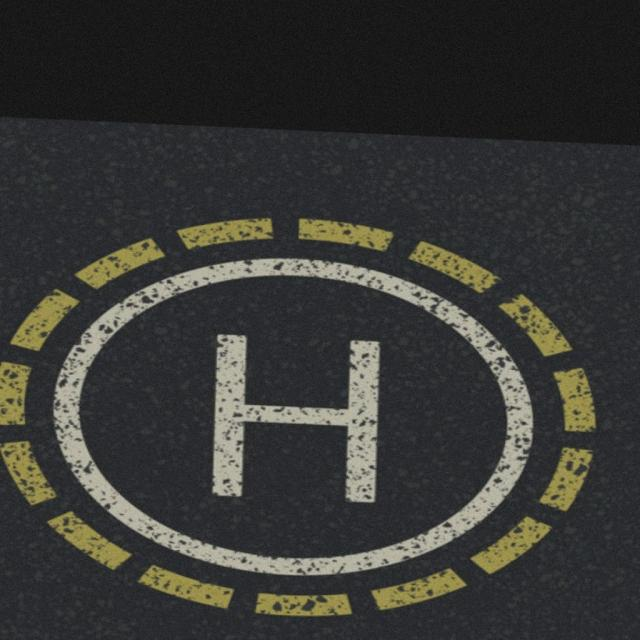helipad: (44, 252, 536, 582)
